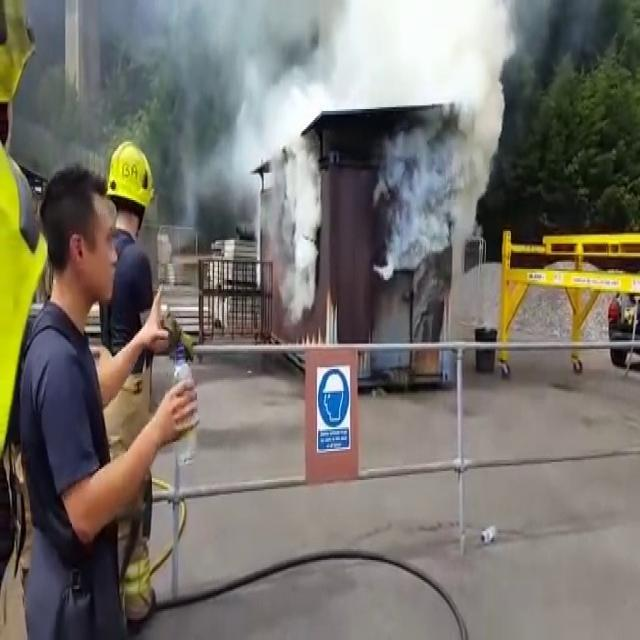Smoke: (278, 0, 506, 97), (398, 102, 486, 262), (274, 127, 342, 332)
